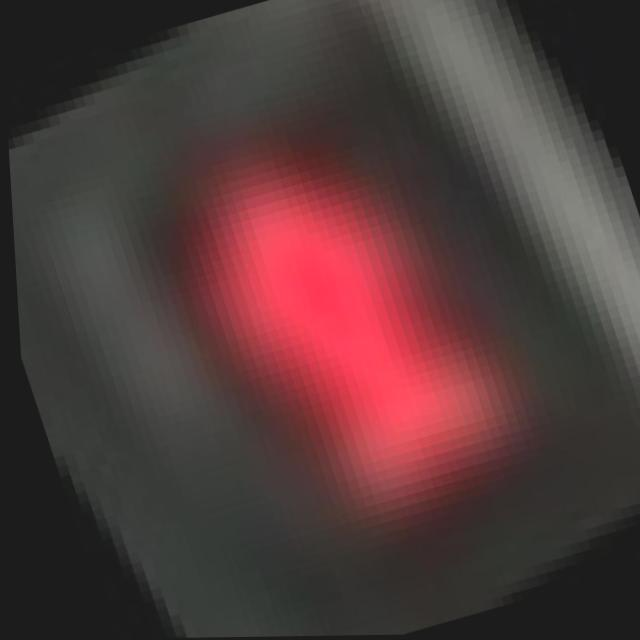red_light: (30, 28, 621, 640)
